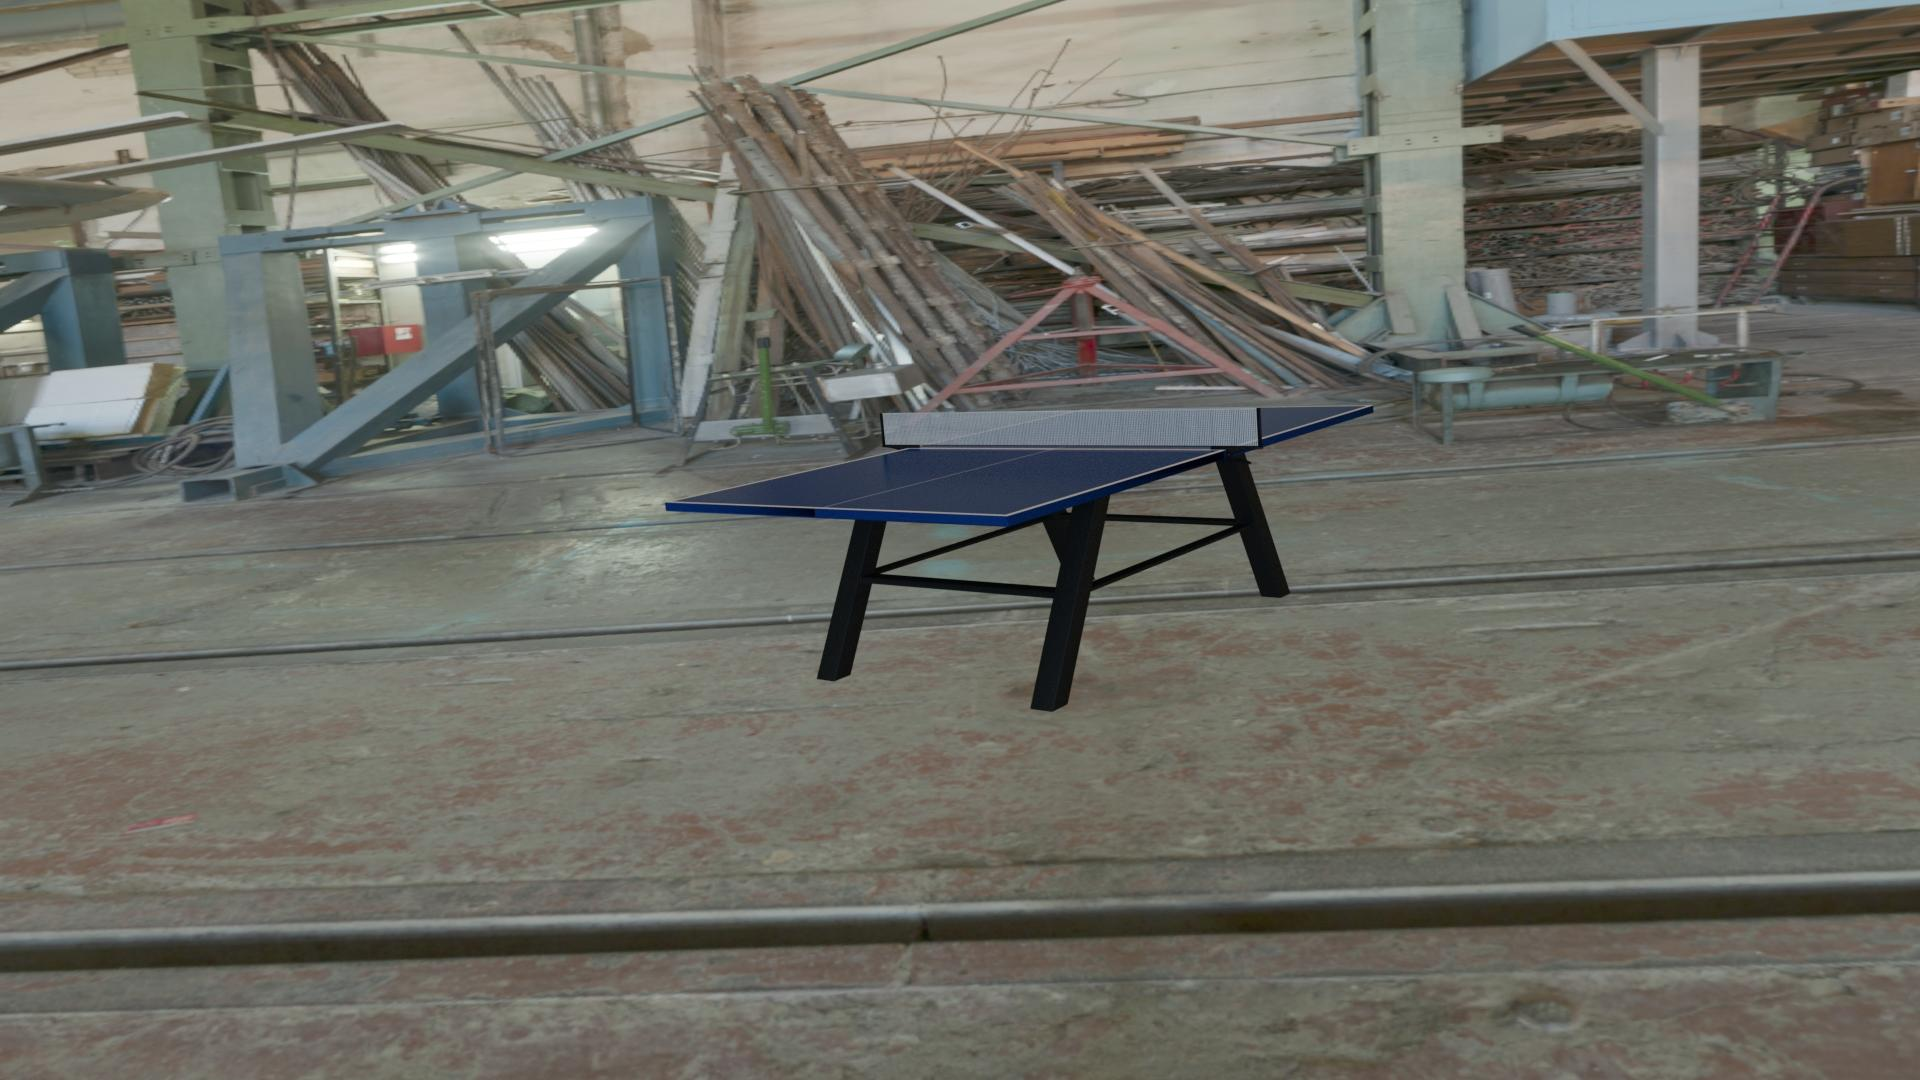table: (673, 406, 1367, 514)
